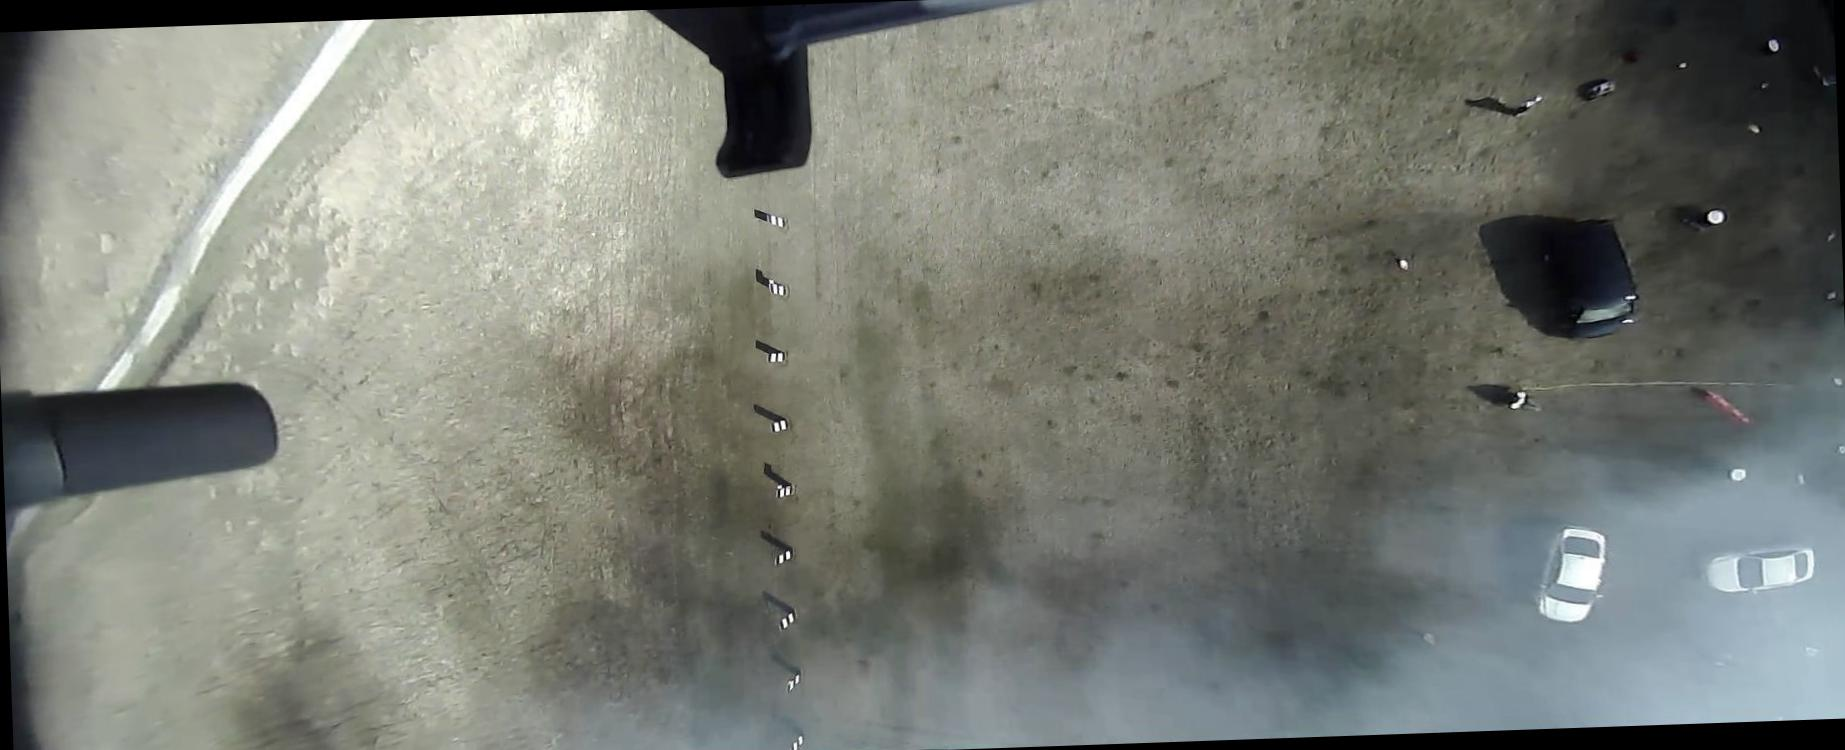vehicle: (1538, 218, 1639, 341), (1531, 522, 1612, 628), (1704, 544, 1818, 598)
